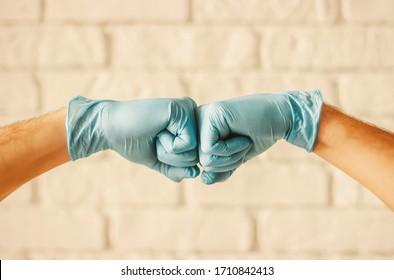gloves: (195, 89, 326, 185), (65, 93, 197, 183)
